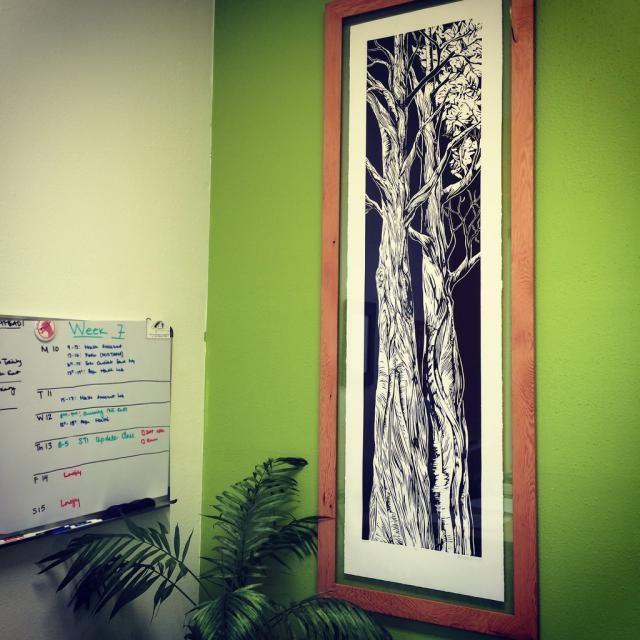Whiteboard: (0, 316, 173, 550)
